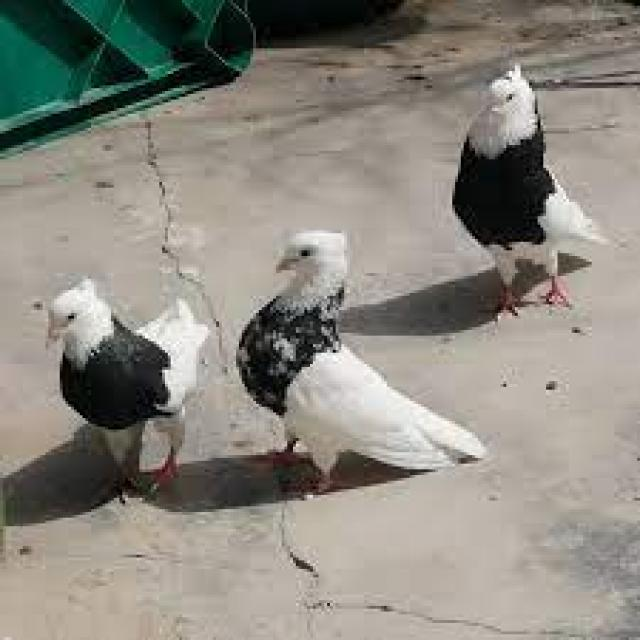bird: (242, 224, 494, 503), (451, 61, 610, 318), (39, 277, 204, 510)
